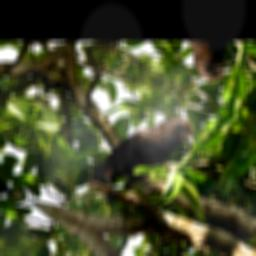Crow: (83, 91, 206, 219)
